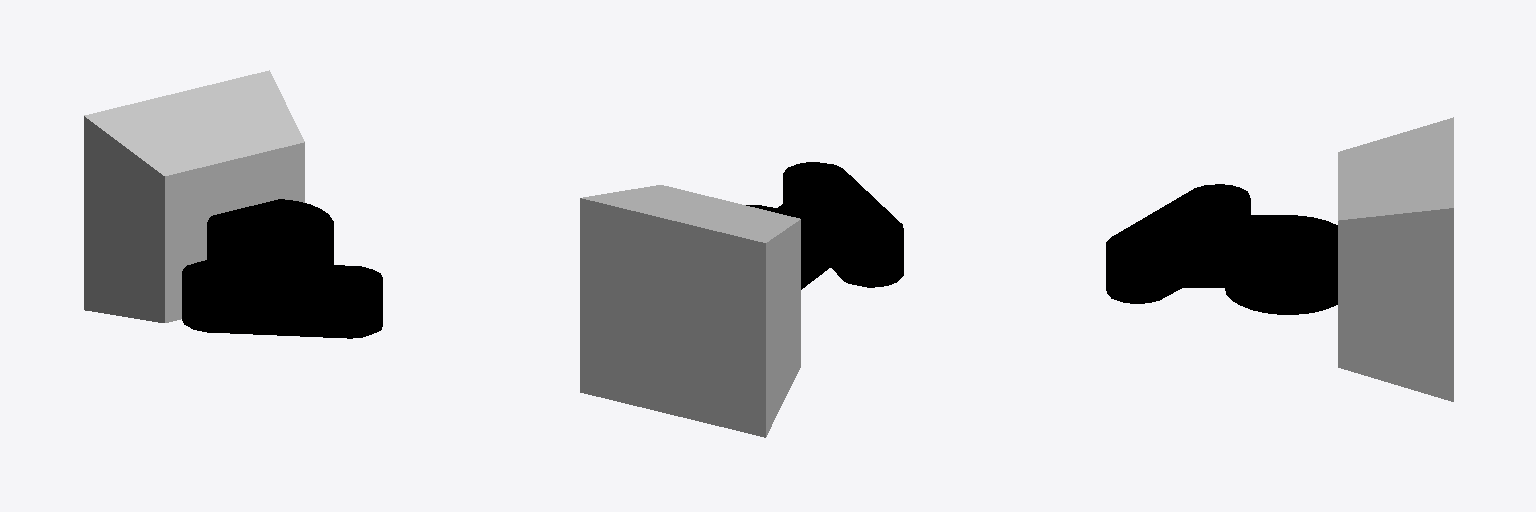
Rendered from to_statue_outline.obj.
The picture shows the model from 3 angles: view 1: azimuth 30°, elevation 25°; view 2: azimuth 150°, elevation 25°; view 3: azimuth 270°, elevation 25°; orthographic projection.
Parts seen in each view (by area): view 1: Cube_Cube.001, Curve; view 2: Cube_Cube.001, Curve; view 3: Cube_Cube.001, Curve.
Boxes of the visible parts, x1=… form: Cube_Cube.001: x1=84, y1=70, x2=304, y2=322; Curve: x1=182, y1=199, x2=382, y2=338; Cube_Cube.001: x1=580, y1=185, x2=800, y2=437; Curve: x1=746, y1=162, x2=903, y2=289; Cube_Cube.001: x1=1338, y1=117, x2=1453, y2=401; Curve: x1=1106, y1=184, x2=1337, y2=314.
Size of the model in its own units: 3.68 by 3.39 by 5.51.